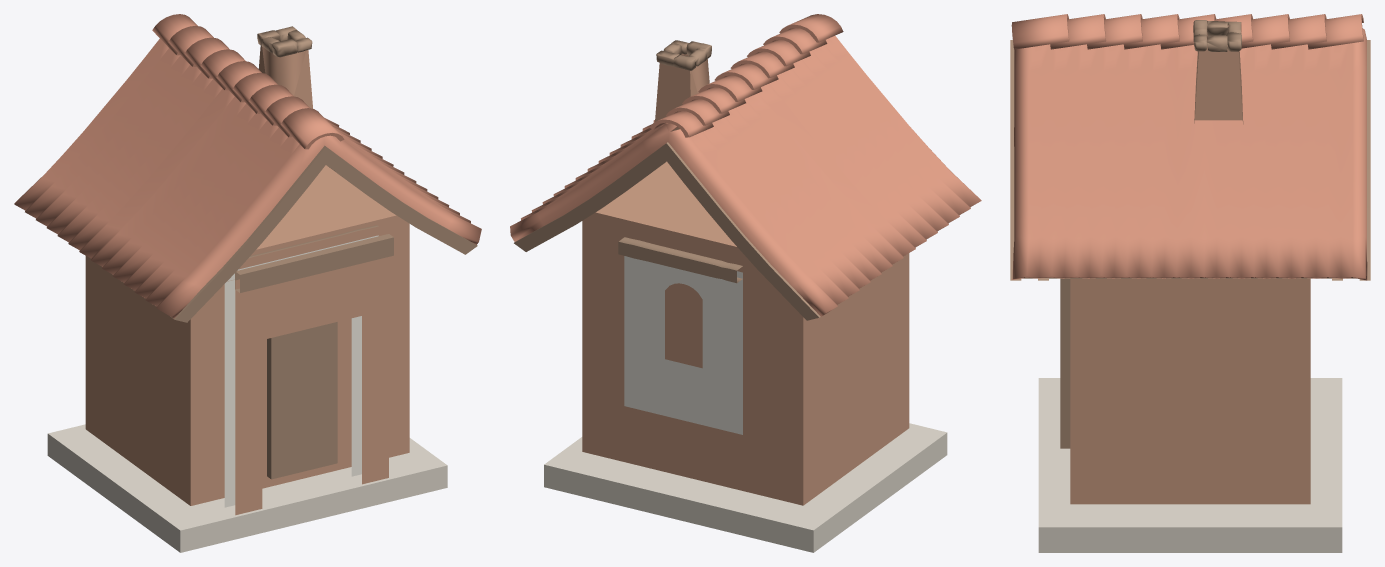
The model's file is cottage-brick.glb.
The picture shows the model from 3 angles, left to right: view 1: azimuth 30°, elevation 25°; view 2: azimuth 150°, elevation 25°; view 3: azimuth 270°, elevation 25°; orthographic projection. The views are drawn at different scales.
Parts seen in each view (by area): view 1: cottage; view 2: cottage; view 3: cottage.
Boxes of the visible parts, bbox=[...] form: cottage: bbox=[14, 14, 481, 552]; cottage: bbox=[510, 14, 981, 552]; cottage: bbox=[1010, 14, 1370, 552].
Size of the model in its own units: 0.9425 by 1.15 by 0.7882.
